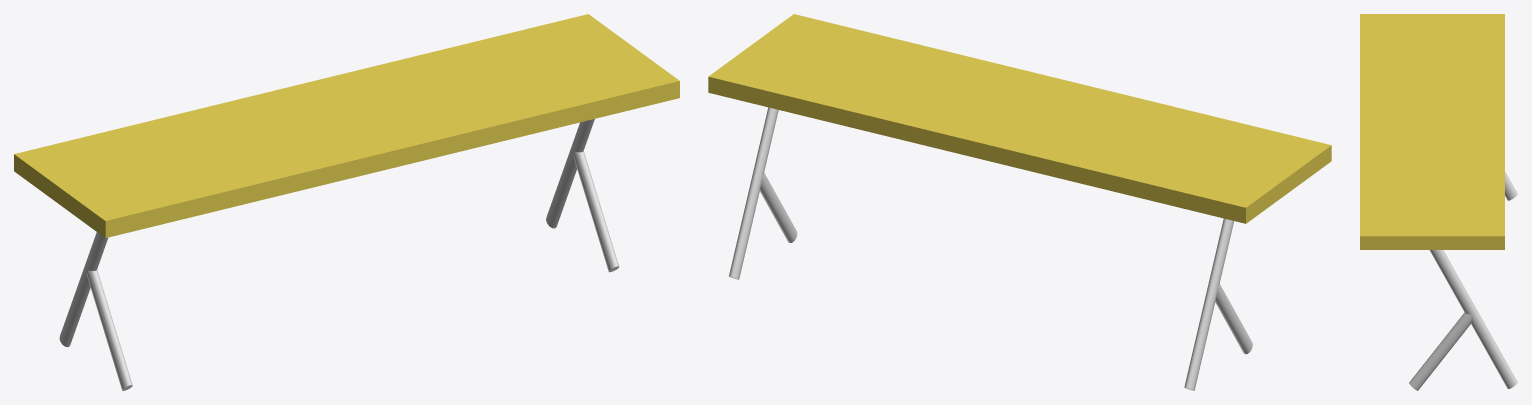
File: table_2.glb
The picture shows the model from 3 angles, left to right: view 1: azimuth 30°, elevation 25°; view 2: azimuth 150°, elevation 25°; view 3: azimuth 270°, elevation 25°; orthographic projection. The views are drawn at different scales.
Visible parts, largest first — view 1: table_2_001.001; view 2: table_2_001.001; view 3: table_2_001.001.
Boxes of the visible parts, x1=… form: table_2_001.001: x1=14, y1=14, x2=679, y2=390; table_2_001.001: x1=708, y1=14, x2=1331, y2=390; table_2_001.001: x1=1360, y1=14, x2=1517, y2=390.
Bounding box in the file's own units: 1.25 × 0.4376 × 0.3755.
